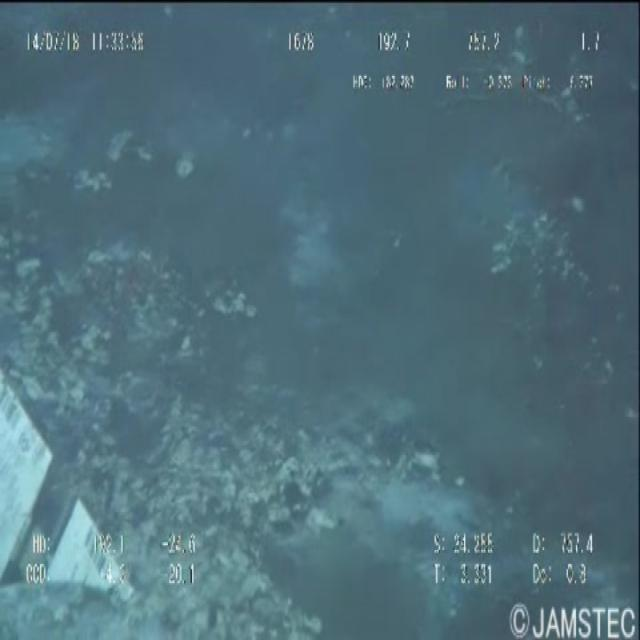Glass: (0, 346, 153, 632)
